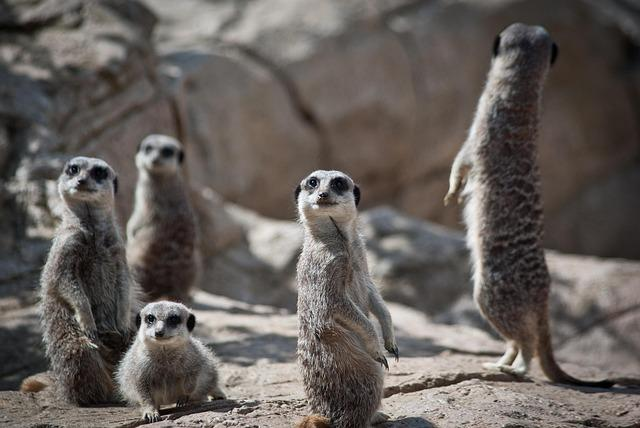Non_Gorille: (20, 75, 636, 428)
